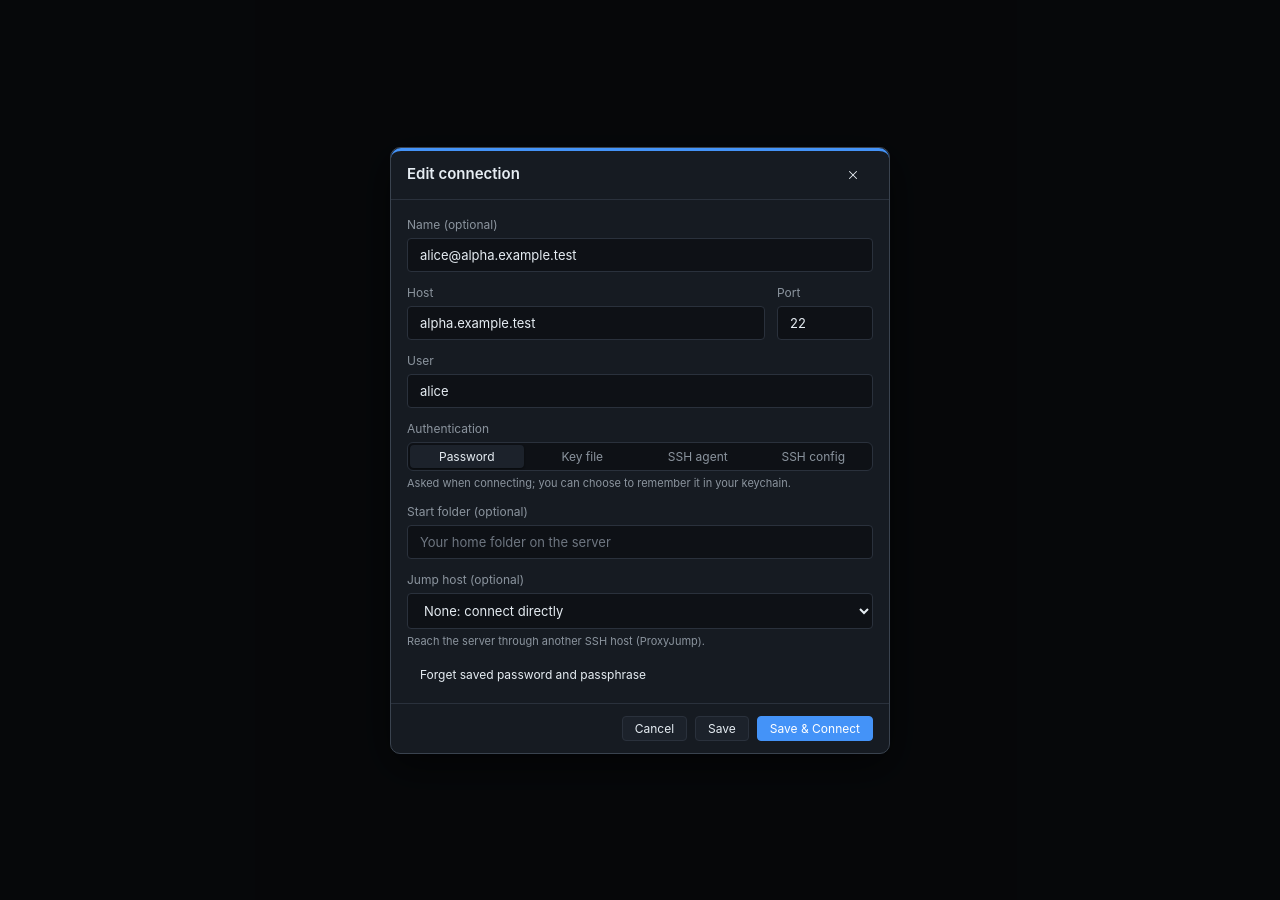
Test case: ConnectionForm › forgets the saved secrets of an edited connection
Check: the dialog "Edit connection" is shown, box [390,146,890,754]
What coordinates should you click on to do the following:
click the button "Forget saved password and passphrase"
I would click on:
 (533, 674)
Its box is [407,662,659,686].
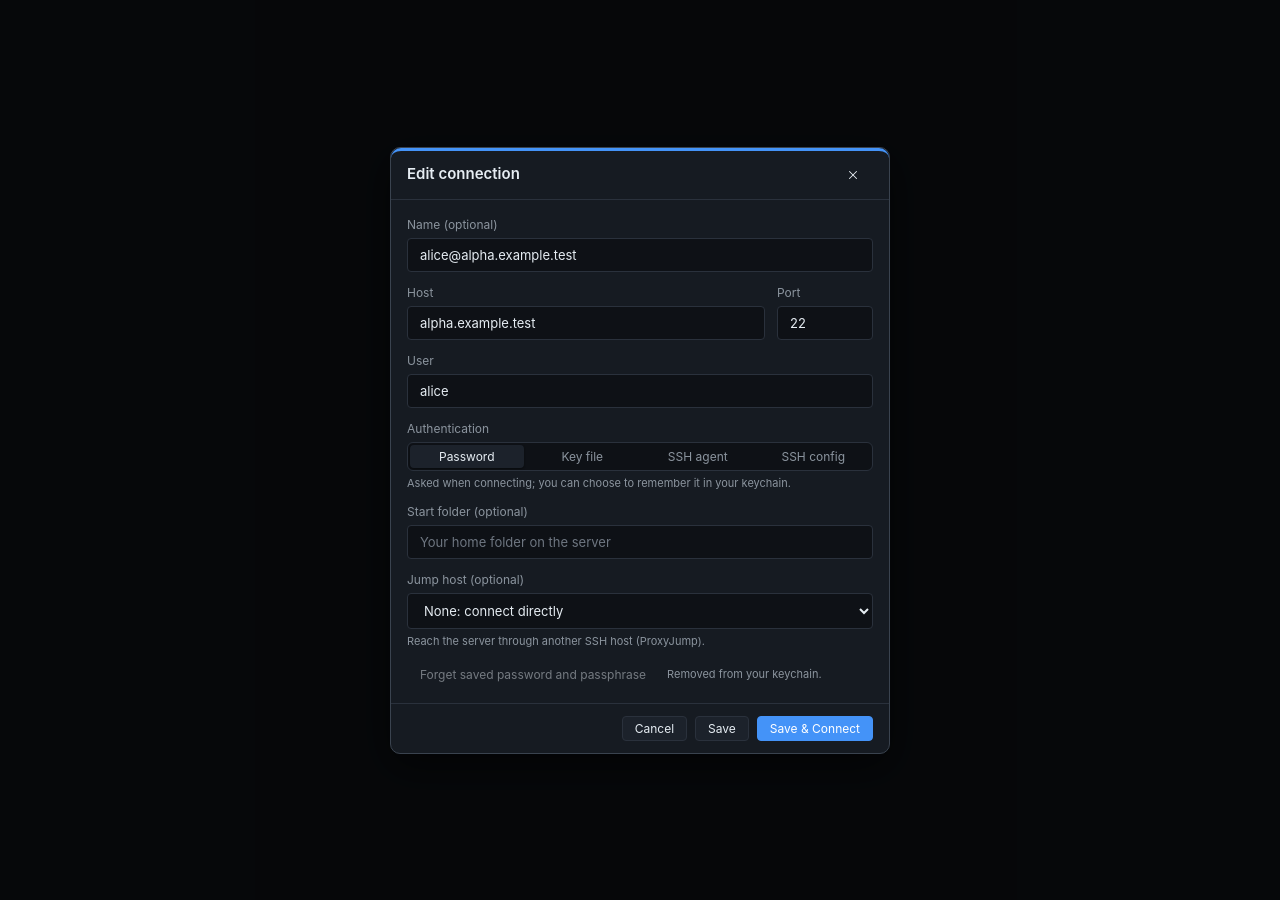
Check: the message reads "Removed from your keychain.", box [667,667,822,681]
